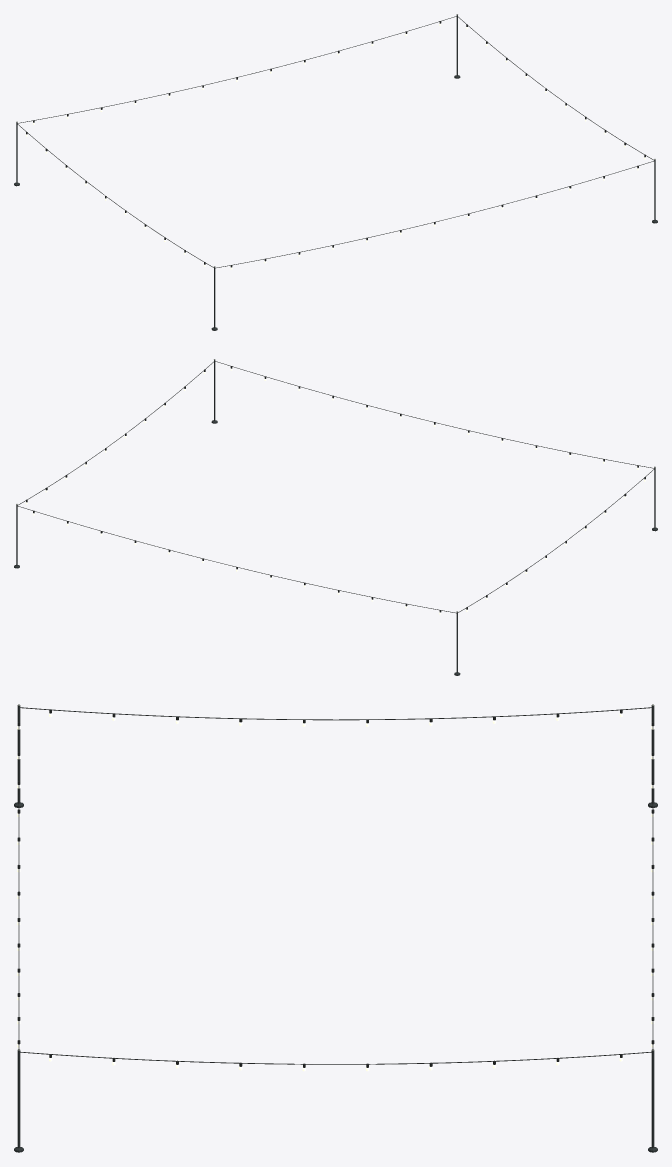
File: festoon-qEGy5fyE.glb
3 views of the same model, one above another, from view 1: azimuth 30°, elevation 25°; view 2: azimuth 150°, elevation 25°; view 3: azimuth 270°, elevation 25° (orthographic). The views are drawn at different scales.
Visible parts, largest first — view 1: salient_fixture_festoon; view 2: salient_fixture_festoon; view 3: salient_fixture_festoon.
Boxes of the visible parts, x1,y1,x2,y2 form: salient_fixture_festoon: (14, 14, 657, 330); salient_fixture_festoon: (14, 359, 657, 675); salient_fixture_festoon: (14, 704, 657, 1152).
Bounding box in the file's own units: 18.22 × 2.47 × 14.22.
